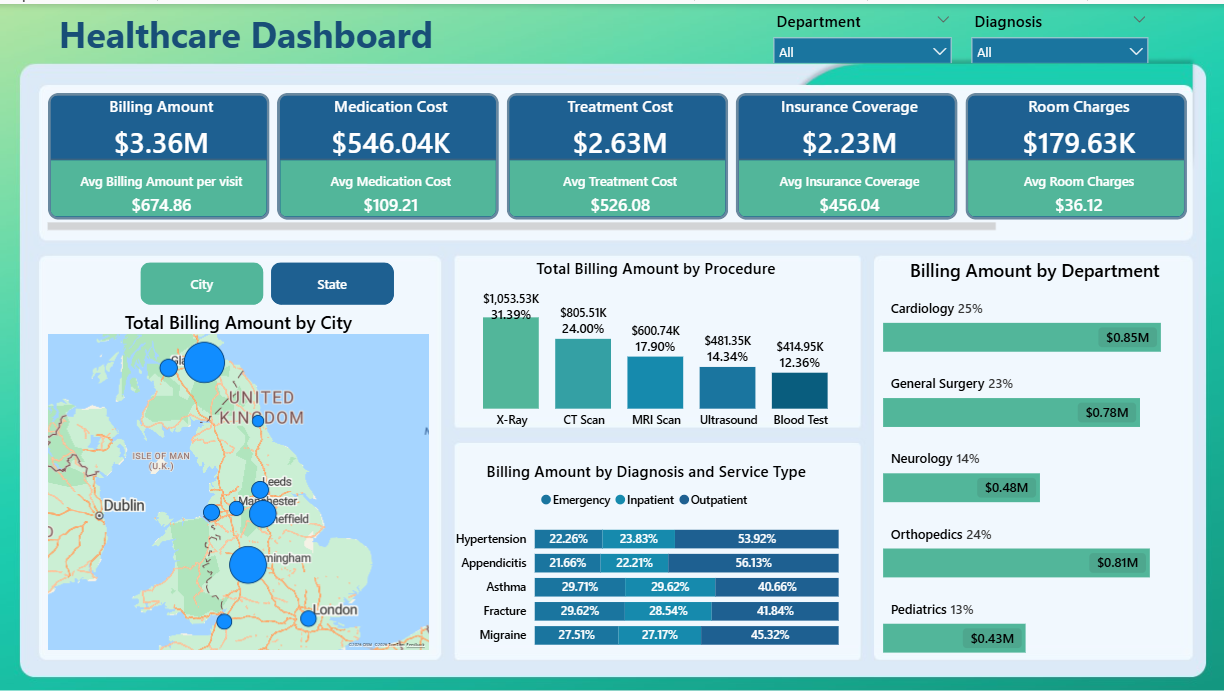

Layout of this report page (visuals, bound fields, positions):
{"tool":"powerbi","page":{"name":"Financial Overview","canvas":[1280,720],"ordinal":0},"visuals":[{"type":"cardVisual","fields":{"Data":["_Measure Table.Total Billing Amount","_Measure Table.Total Medication Cost","_Measure Table.Total Treatment Cost","_Measure Table.Total Insurance Coverage","_Measure Table.Total Room Charges","_Measure Table.Out of Pocket"]},"box":[44.9,87,1197.1,155.1],"z":0},{"type":"columnChart","fields":{"Category":["procedures.Procedure"],"Y":["_Measure Table.Total Billing Amount"]},"box":[468.8,263.7,431.4,187.2],"z":1000},{"type":"azureMap","fields":{"Category":["cities.City"],"Size":["_Measure Table.Total Billing Amount"]},"box":[45.3,318.8,407.9,359.5],"z":2000},{"type":"advancedSlicerVisual","fields":{"Values":["Location.Location"]},"box":[142.2,264.1,275.1,54.7],"z":3000},{"type":"hundredPercentStackedBarChart","title":"Billing Amount by Diagnosis and Service Type","fields":{"Category":["diagnose.Diagnosis"],"Y":["_Measure Table.Total Billing Amount"],"Series":["visits.Service Type"]},"box":[468.9,475.1,411.1,207.9],"z":4000},{"type":"clusteredBarChart","title":"Billing Amount by Department","fields":{"Category":["department.Department"],"Y":["_Measure Table.Blank Measure","_Measure Table.Total Billing Amount"]},"box":[915.9,264.1,326.7,418.9],"z":5000},{"type":"slicer","fields":{"Values":["department.Department"]},"box":[797.4,1.6,205.4,59.8],"z":6000},{"type":"slicer","fields":{"Values":["diagnose.Diagnosis"]},"box":[1002.9,1.6,203.8,59.8],"z":7000},{"type":"textbox","box":[45.3,0,423.8,64.7],"z":8000}]}

Visuals, with their boxes in screenshot pixels (x1, y1, x2, y2), scaled from the page's 1280x720 canvas onto the 1224x691 screenshot:
cardVisual - _Measure Table.Total Billing Amount x _Measure Table.Total Medication Cost: pyautogui.locateOnScreen(43, 83, 1188, 232)
columnChart - procedures.Procedure x _Measure Table.Total Billing Amount: pyautogui.locateOnScreen(448, 253, 861, 433)
azureMap - cities.City x _Measure Table.Total Billing Amount: pyautogui.locateOnScreen(43, 306, 433, 651)
advancedSlicerVisual - Location.Location: pyautogui.locateOnScreen(136, 253, 399, 306)
"Billing Amount by Diagnosis and Service Type" hundredPercentStackedBarChart: pyautogui.locateOnScreen(448, 456, 842, 655)
"Billing Amount by Department" clusteredBarChart: pyautogui.locateOnScreen(876, 253, 1188, 655)
slicer - department.Department: pyautogui.locateOnScreen(763, 2, 959, 59)
slicer - diagnose.Diagnosis: pyautogui.locateOnScreen(959, 2, 1154, 59)
textbox: pyautogui.locateOnScreen(43, 0, 449, 62)
